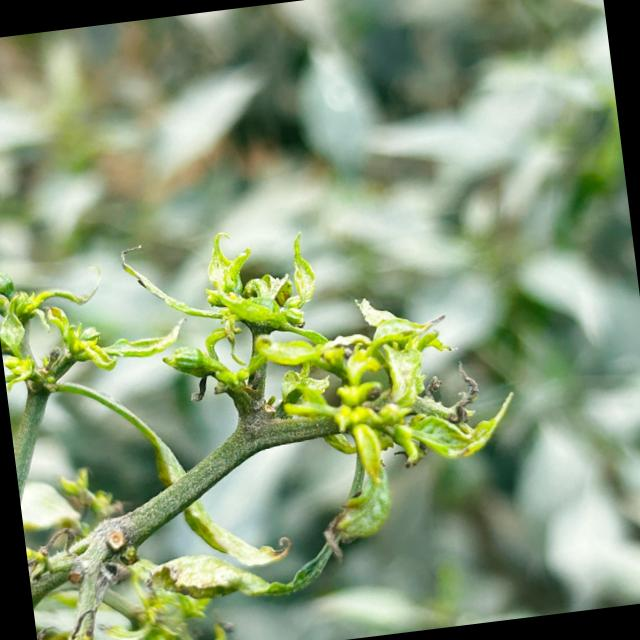Chilli_Leaf_Curl: (0, 197, 539, 640), (252, 280, 522, 493), (118, 219, 331, 406)
